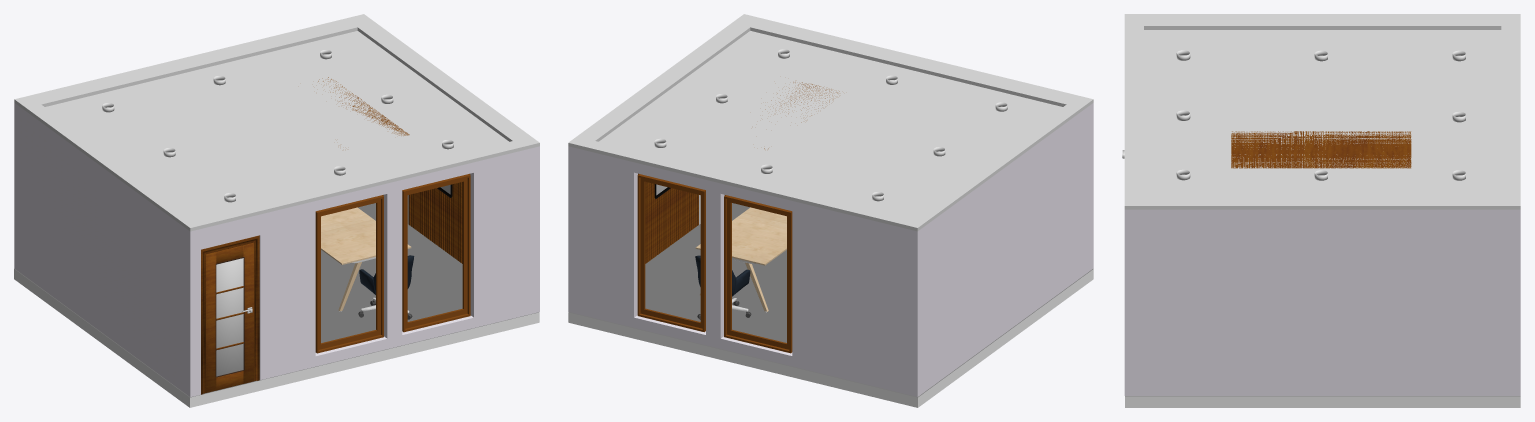
Rendered from Meeting_Room_1.glb.
3 views of the same model, side by side, from view 1: azimuth 30°, elevation 25°; view 2: azimuth 150°, elevation 25°; view 3: azimuth 270°, elevation 25° (orthographic). The views are drawn at different scales.
Parts seen in each view (by area): view 1: G-__555924_43, G-__555564_3, G-__555573_4, G-__556014_164, WCMP4072.003_156, G-__555996_162, WCMP4072.002_155, Object_342, G-__555951_157, Bindu Mid Back Executive / Conference Chair.004_185, G-__555933_44, G-__556005_163; view 2: G-__555564_3, G-__555924_43, G-__555573_4, WCMP4072.001_154, WCMP4072_153, Object_342, Bindu Mid Back Executive / Conference Chair.003_184; view 3: G-__555564_3, G-__555924_43, G-__555933_44, G-__555573_4.
Boxes of the visible parts, x1,y1,x2,y2 form: G-__555924_43: [14, 14, 539, 231]; G-__555564_3: [14, 103, 539, 396]; G-__555573_4: [14, 203, 539, 407]; G-__556014_164: [205, 242, 253, 392]; WCMP4072.003_156: [402, 173, 470, 332]; G-__555996_162: [216, 258, 243, 376]; WCMP4072.002_155: [315, 195, 383, 353]; Object_342: [321, 207, 410, 263]; G-__555951_157: [201, 235, 259, 394]; Bindu Mid Back Executive / Conference Chair.004_185: [358, 255, 414, 319]; G-__555933_44: [318, 77, 409, 135]; G-__556005_163: [215, 257, 244, 377]; G-__555564_3: [568, 103, 1093, 396]; G-__555924_43: [568, 14, 1093, 231]; G-__555573_4: [568, 203, 1093, 407]; WCMP4072.001_154: [637, 173, 705, 332]; WCMP4072_153: [724, 195, 792, 353]; Object_342: [696, 207, 786, 264]; Bindu Mid Back Executive / Conference Chair.003_184: [695, 255, 751, 319]; G-__555564_3: [1124, 209, 1520, 395]; G-__555924_43: [1124, 14, 1520, 209]; G-__555933_44: [1231, 131, 1411, 168]; G-__555573_4: [1125, 396, 1520, 407].
Size of what is drawn, in the model's own units: 5.39 by 2.65 by 4.73.
36 materials, 11 textured.
